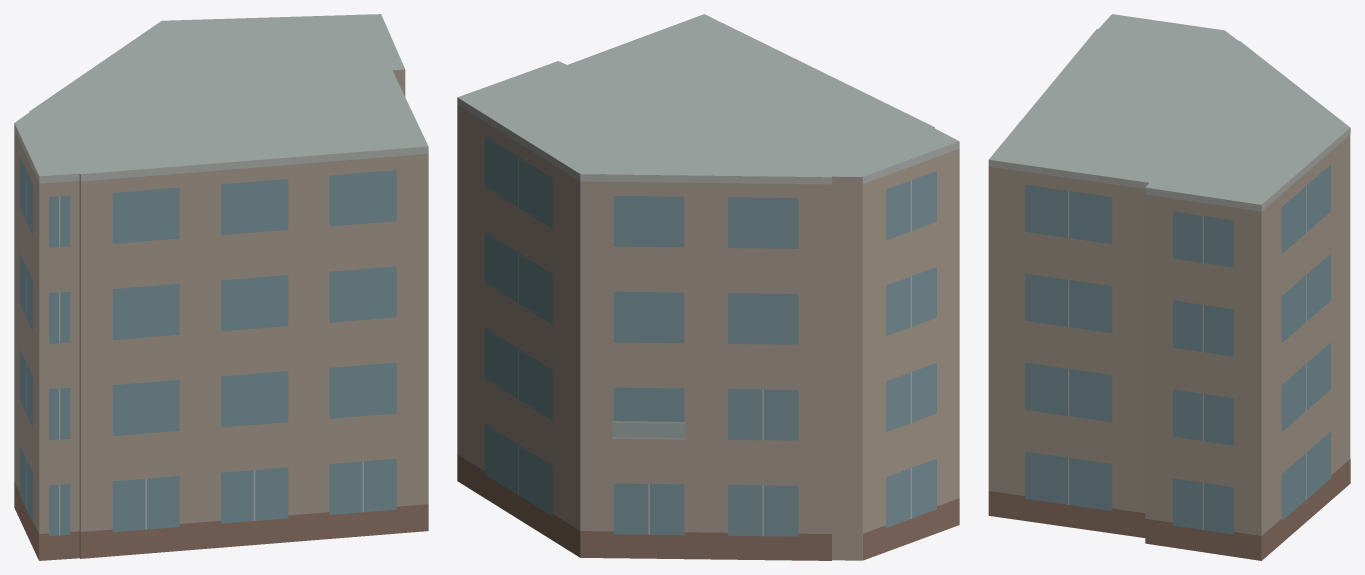
File: survey-upis-32825164.glb
3 views of the same model, side by side, from view 1: azimuth 30°, elevation 25°; view 2: azimuth 150°, elevation 25°; view 3: azimuth 270°, elevation 25° (orthographic). The views are drawn at different scales.
Parts seen in each view (by area): view 1: survey-upis-32825164.tmp; view 2: survey-upis-32825164.tmp; view 3: survey-upis-32825164.tmp.
Boxes of the visible parts, box(x1,y1,x2,y2) form: survey-upis-32825164.tmp: box(14, 14, 428, 560); survey-upis-32825164.tmp: box(457, 14, 959, 560); survey-upis-32825164.tmp: box(988, 14, 1350, 560).
Bounding box in the file's own units: 14.79 × 12.85 × 11.85.
